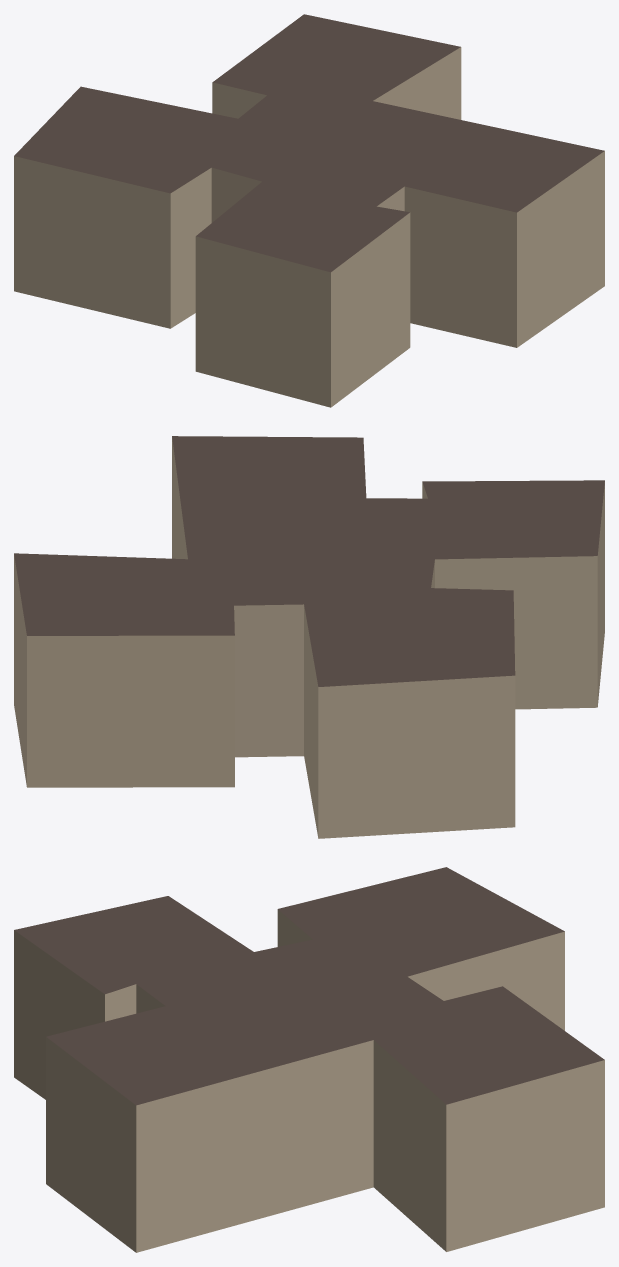
3 renders of one model, top to bottom at view 1: azimuth 30°, elevation 25°; view 2: azimuth 150°, elevation 25°; view 3: azimuth 270°, elevation 25°, orthographic. The views are drawn at different scales.
Parts seen in each view (by area): view 1: HP-w1515071113; view 2: HP-w1515071113; view 3: HP-w1515071113.
Part boxes in pixels (x1,y1,x2,y2): HP-w1515071113: [14, 14, 604, 407]; HP-w1515071113: [14, 436, 604, 838]; HP-w1515071113: [14, 867, 604, 1252].
Bounding box in the file's own units: 31.22 × 9 × 32.7.
